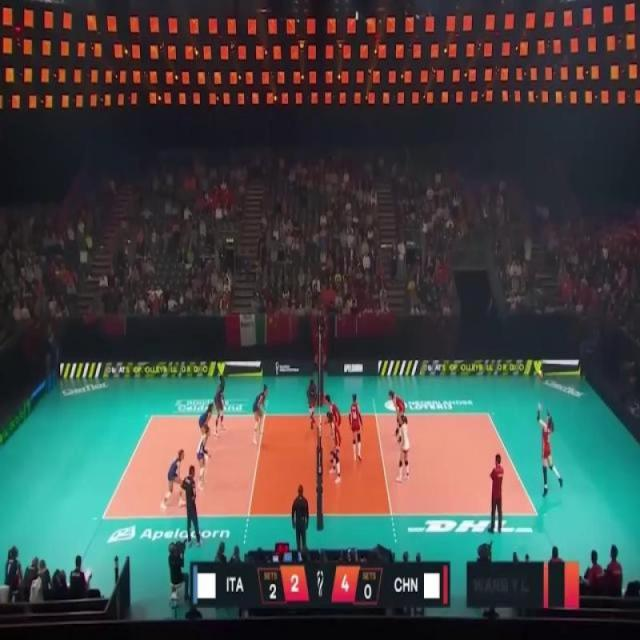volleyball: (538, 368, 543, 379)
